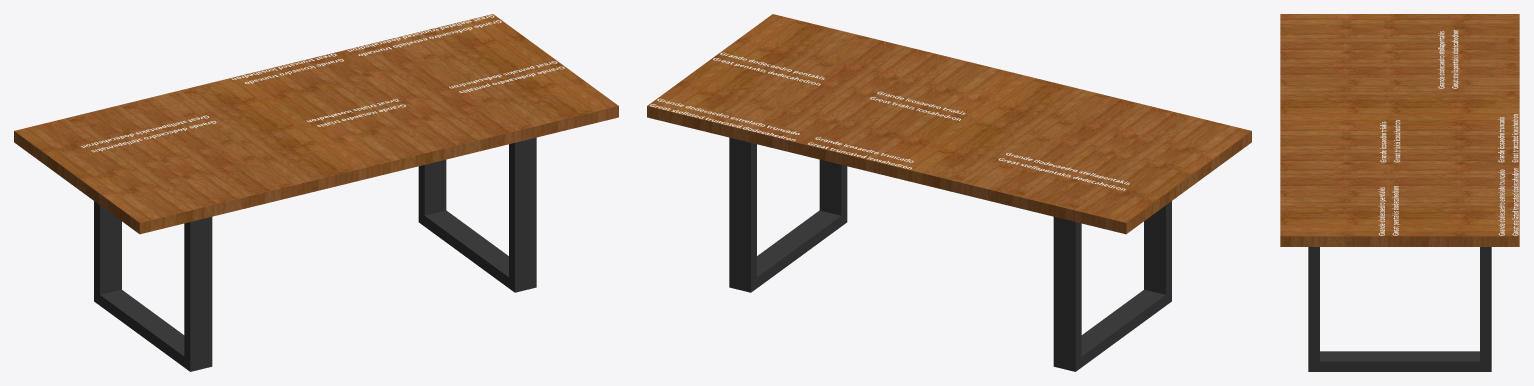
The model's file is selfinterTrunc2.glb.
3 views of the same model, side by side, from view 1: azimuth 30°, elevation 25°; view 2: azimuth 150°, elevation 25°; view 3: azimuth 270°, elevation 25° (orthographic). The views are drawn at different scales.
Visible parts, largest first — view 1: object 1, Composant#1 (×2), Grande dodecaedr#1, Grande dodecaedr#2, Grande dodecaedr; view 2: object 1, Composant#1 (×2), Grande dodecaedr#1, Grande dodecaedr#2, Grande dodecaedr; view 3: object 1, Composant#1, Grande dodecaedr#1, Grande dodecaedr#2, Grande dodecaedr, Grande icosaedro#1, Grande icosaedro.
Boxes of the visible parts, box(x1,y1,x2,y2) form: object 1: box(14, 14, 618, 234); Composant#1 (×2): box(94, 137, 536, 371); Grande dodecaedr#1: box(347, 15, 501, 55); Grande dodecaedr#2: box(81, 115, 216, 152); Grande dodecaedr: box(449, 61, 564, 92); object 1: box(647, 14, 1251, 234); Composant#1 (×2): box(729, 137, 1171, 371); Grande dodecaedr#1: box(650, 98, 799, 141); Grande dodecaedr#2: box(998, 153, 1129, 190); Grande dodecaedr: box(713, 52, 824, 85); object 1: box(1280, 14, 1519, 246); Composant#1: box(1308, 247, 1491, 371); Grande dodecaedr#1: box(1498, 168, 1518, 235); Grande dodecaedr#2: box(1438, 30, 1459, 88); Grande dodecaedr: box(1378, 186, 1399, 235); Grande icosaedro#1: box(1498, 114, 1518, 162); Grande icosaedro: box(1380, 120, 1400, 162).
Size of the model in its own units: 2.2 by 0.771 by 1.
3 materials, 1 textured.
